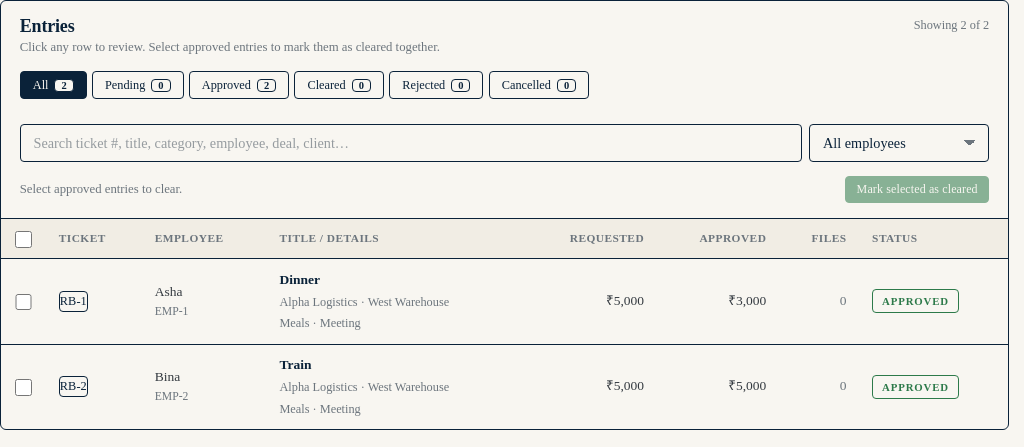
Test: resets selection when changing status so hidden entries are never cleared
Click the checkbox named "Select all visible approved entries" at point(24, 239), box [15,231,32,248]
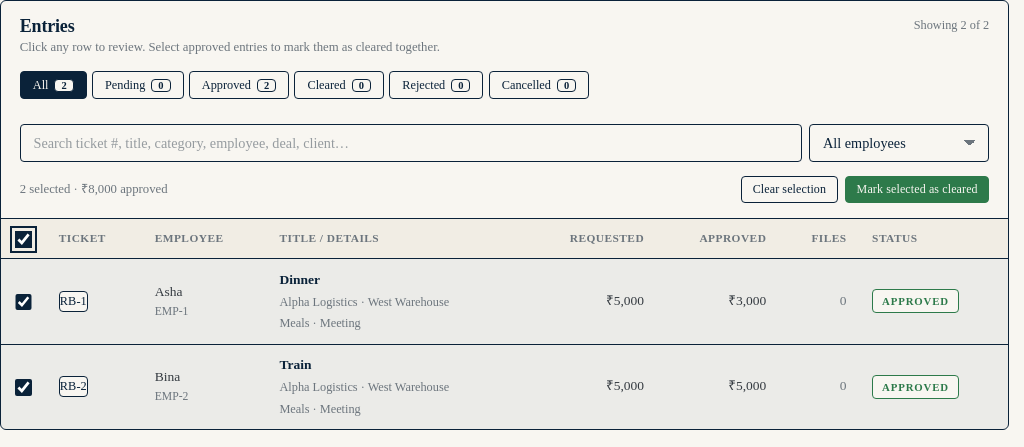
Click the button named "Approved2" at point(239, 85), box [189,71,289,99]
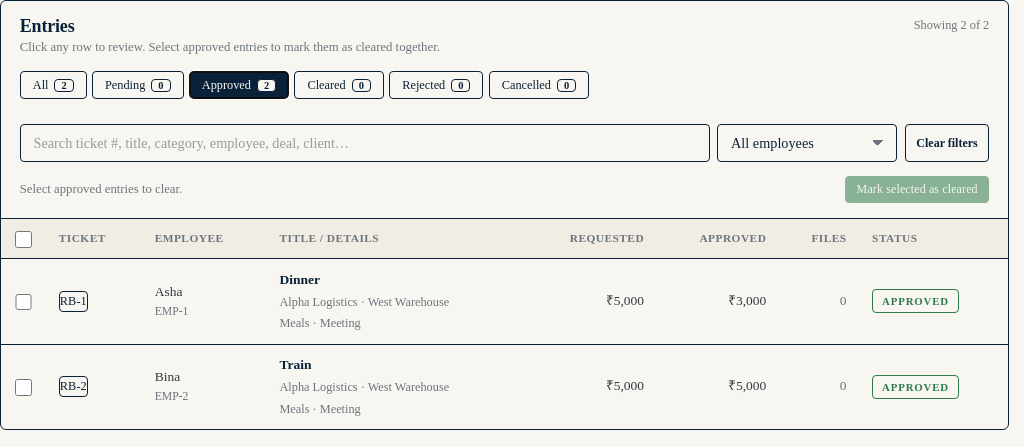
Now the checkbox named "Select all visible approved entries" is not checked, box [15,231,32,248]
Now the button "Mark selected as cleared" is disabled, box [845,176,989,204]
